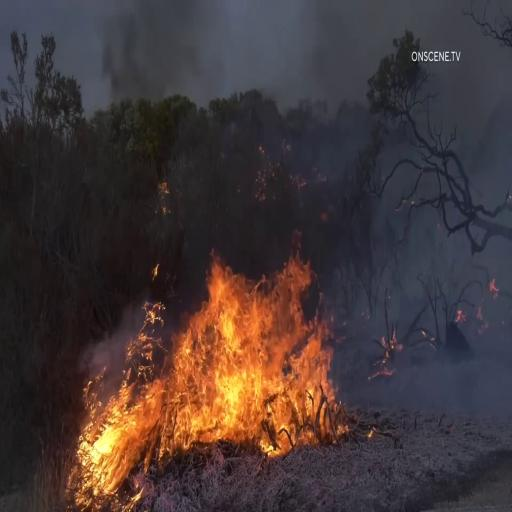fire: (108, 262, 354, 463)
